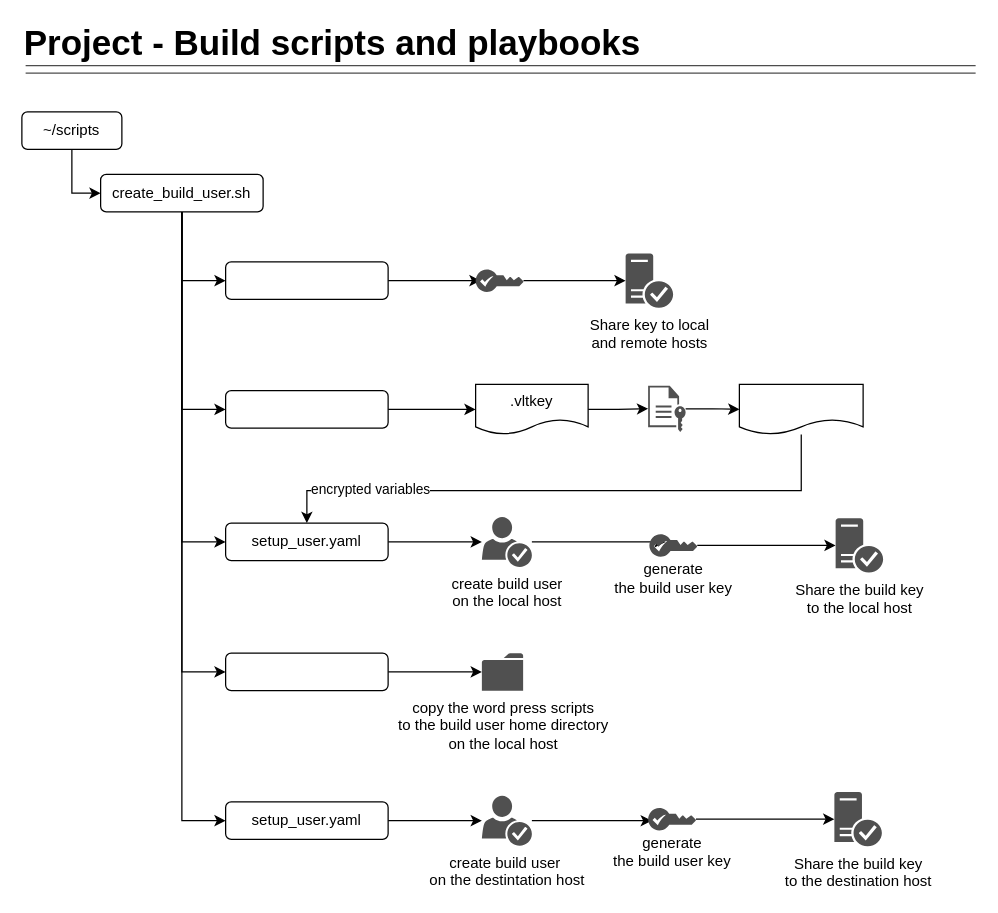
This 998x913 diagram has some shape labels left out. Here are the shapes that lost their labels. From the top down, the centre of each, then its label:
point (306, 280): ssh-keygen
point (499, 280): generate admin user key
point (306, 408): setup_vars.sh
point (666, 408): ansible vault encrypt
point (800, 408): setup_vars.yaml
point (306, 671): copy_scripts.yaml
